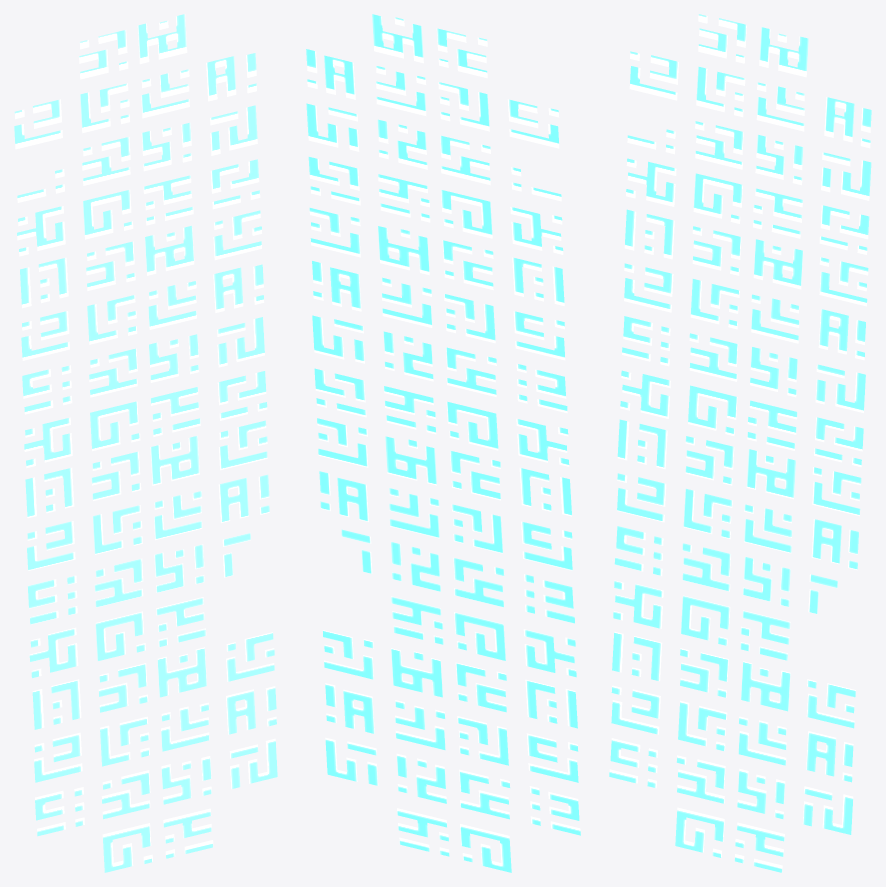
The model's file is Tablet_Origin_Var1_LOD2_dream.glb.
The picture shows the model from 3 angles, left to right: view 1: azimuth 30°, elevation 25°; view 2: azimuth 150°, elevation 25°; view 3: azimuth 330°, elevation 25°; orthographic projection. The views are drawn at different scales.
Visible parts, largest first — view 1: Var1_Holo; view 2: Var1_Holo; view 3: Var1_Holo.
Part boxes in pixels (left/top/right/bottom): Var1_Holo: left=14, top=14, right=277, bottom=872; Var1_Holo: left=306, top=14, right=580, bottom=872; Var1_Holo: left=609, top=14, right=871, bottom=872.
Size of what is drawn, in the model's own units: 1.82 by 5.86 by 0.3587.
1 material, 1 textured.
